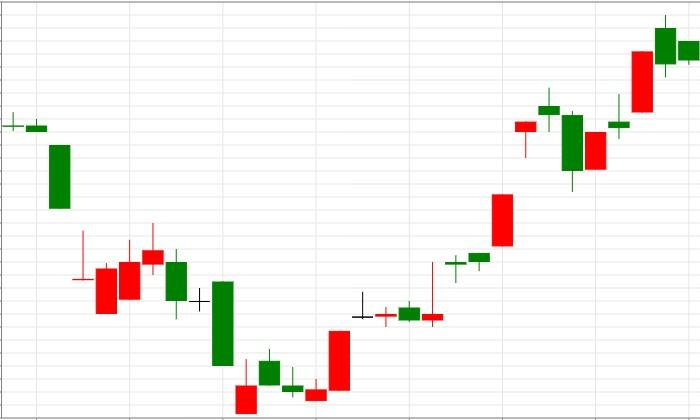evening_star_fall: (422, 86, 583, 327)
